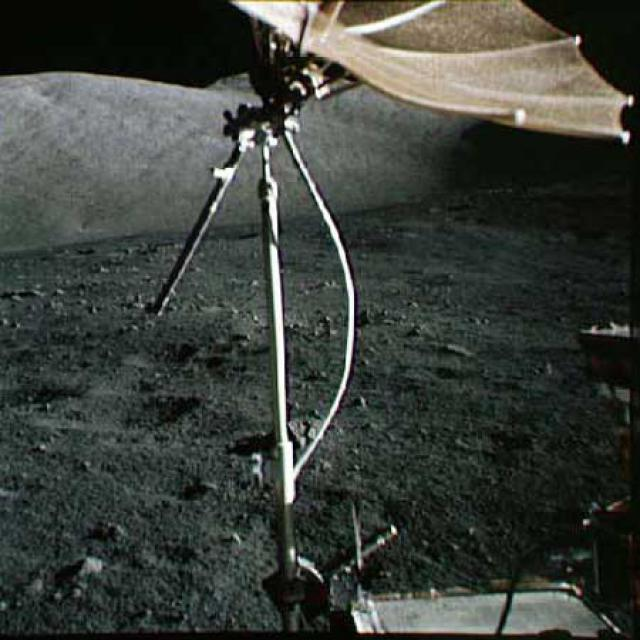artifact: (148, 1, 639, 320)
crater: (253, 320, 639, 639), (33, 397, 209, 434), (123, 341, 194, 367)
rock: (437, 339, 478, 361), (76, 550, 106, 578), (352, 391, 371, 412)
